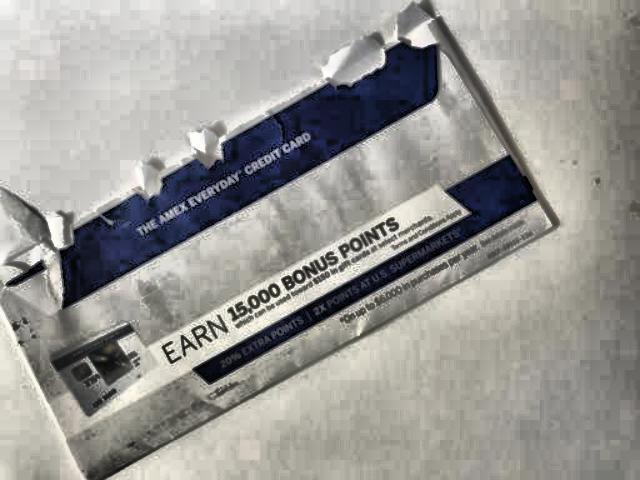Paper: (0, 0, 565, 480)
